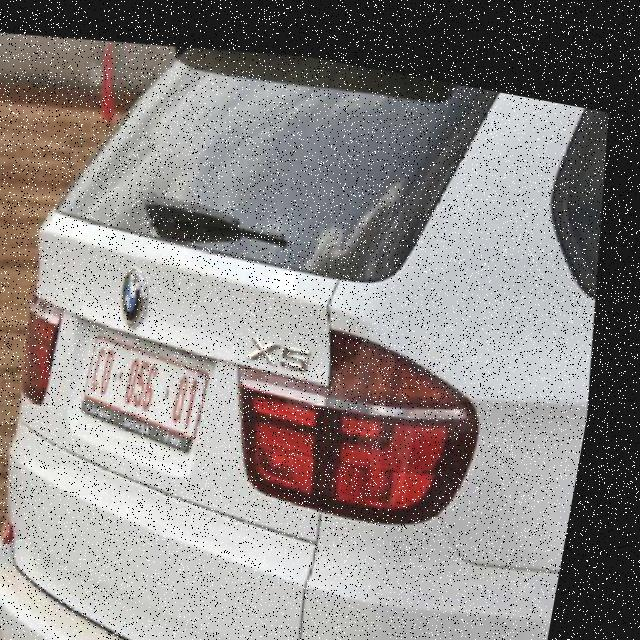license_plate: (80, 309, 238, 458)
